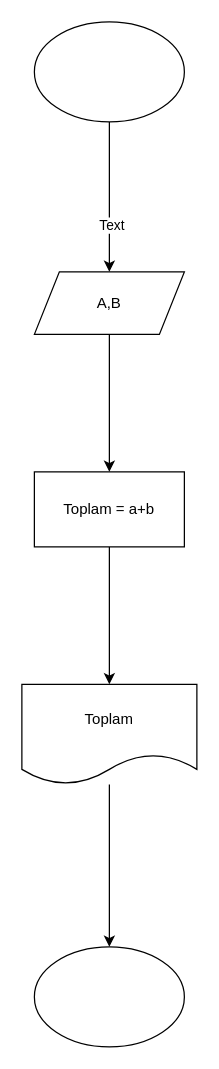
Some shapes in this 219 by 1069 pixel diagram are drawn without their labels. The centre of each missing label's shape, as x and y in pixels:
Başla: the point at 108,71
Dur: the point at 108,996
